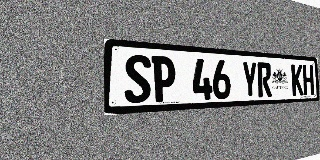4: (192, 58, 212, 100)
6: (212, 59, 231, 99)
H: (302, 65, 314, 95)
K: (291, 64, 303, 96)
P: (151, 56, 176, 102)
R: (257, 62, 272, 97)
S: (124, 54, 151, 103)
Y: (242, 61, 258, 98)
